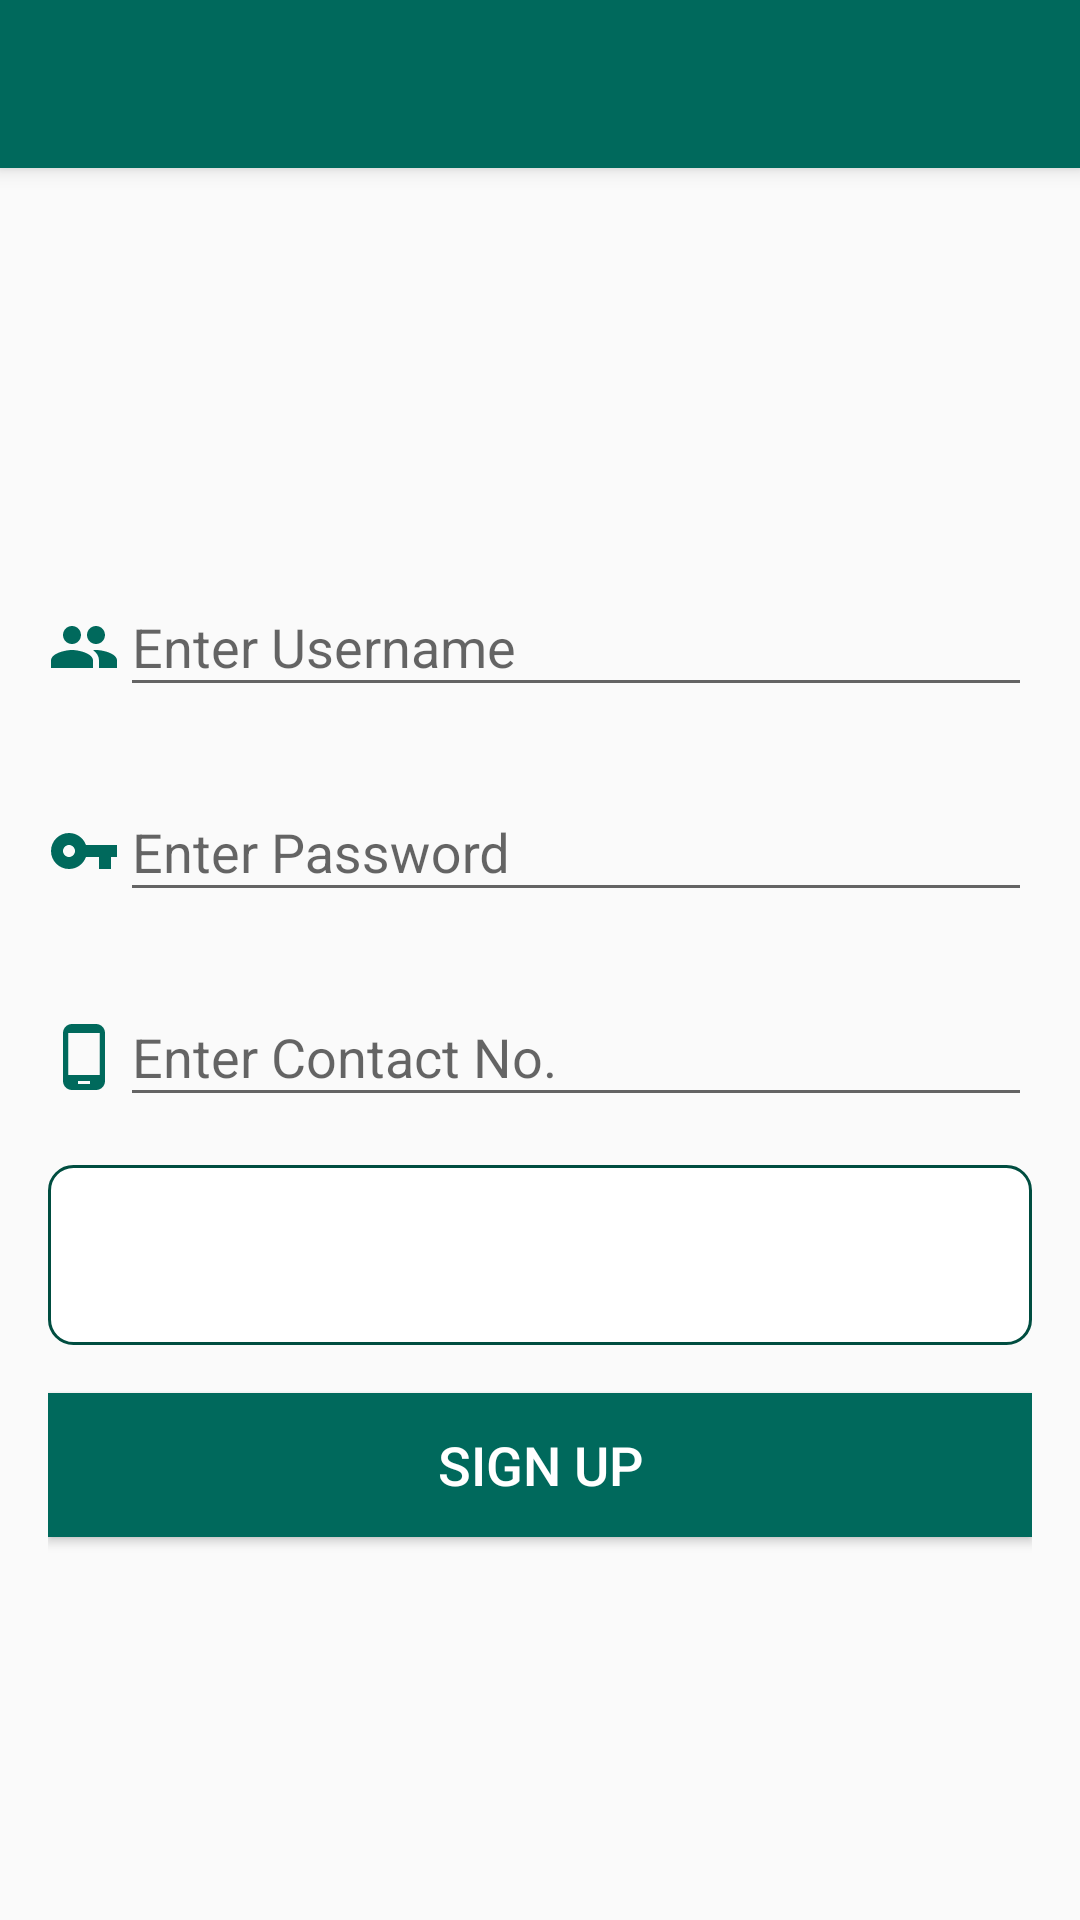

Point at icon controls on the screen. Image size 1080w x 1920h, points as (x=x, y=y).
contact number: (x=84, y=1057)
